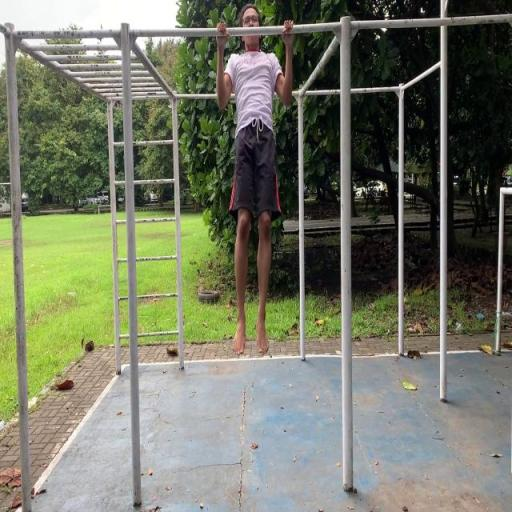Normal_BrenchPress: (214, 5, 296, 356)
